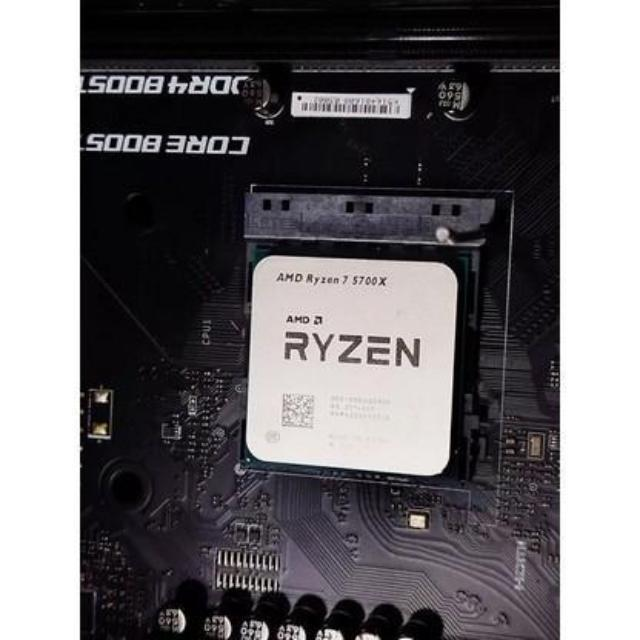CPU: (250, 257, 452, 472)
